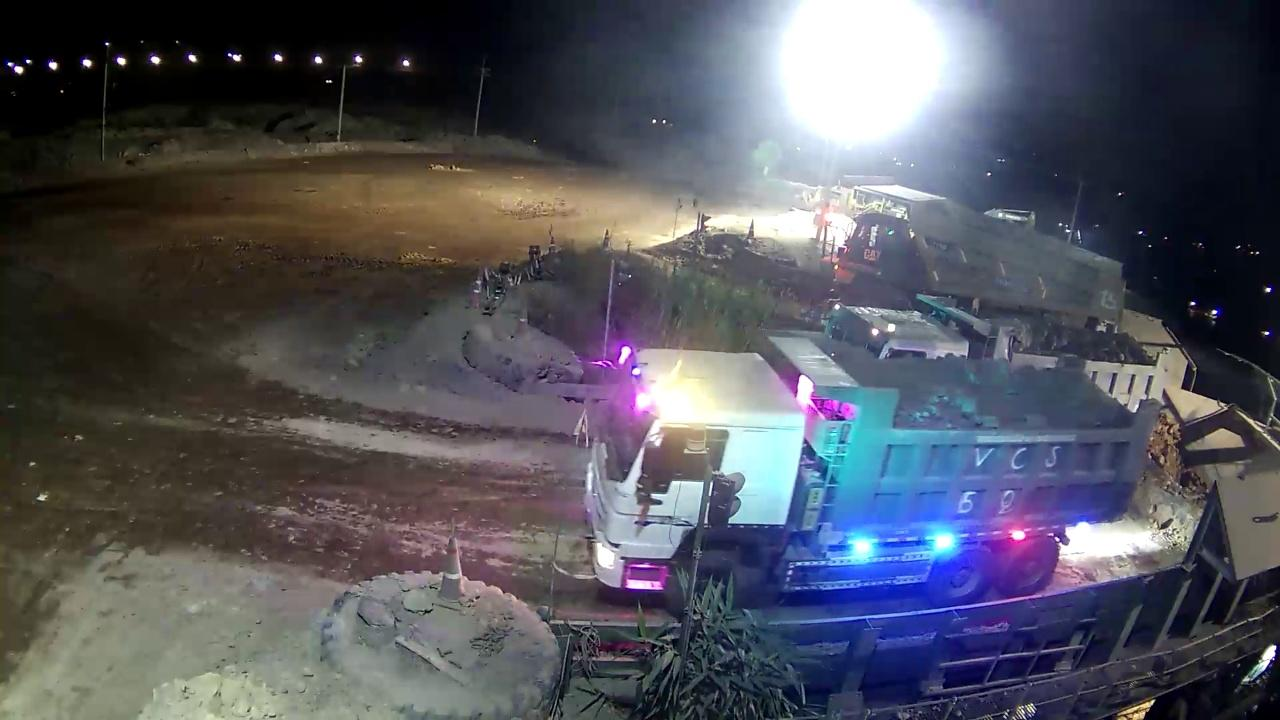empty_load: (976, 184, 1098, 261)
mining_truck: (830, 170, 1144, 338)
tail_number: (1097, 280, 1119, 316)
